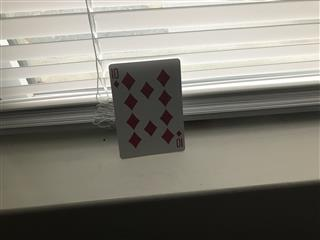TenOfDiamonds: (107, 57, 186, 159)
